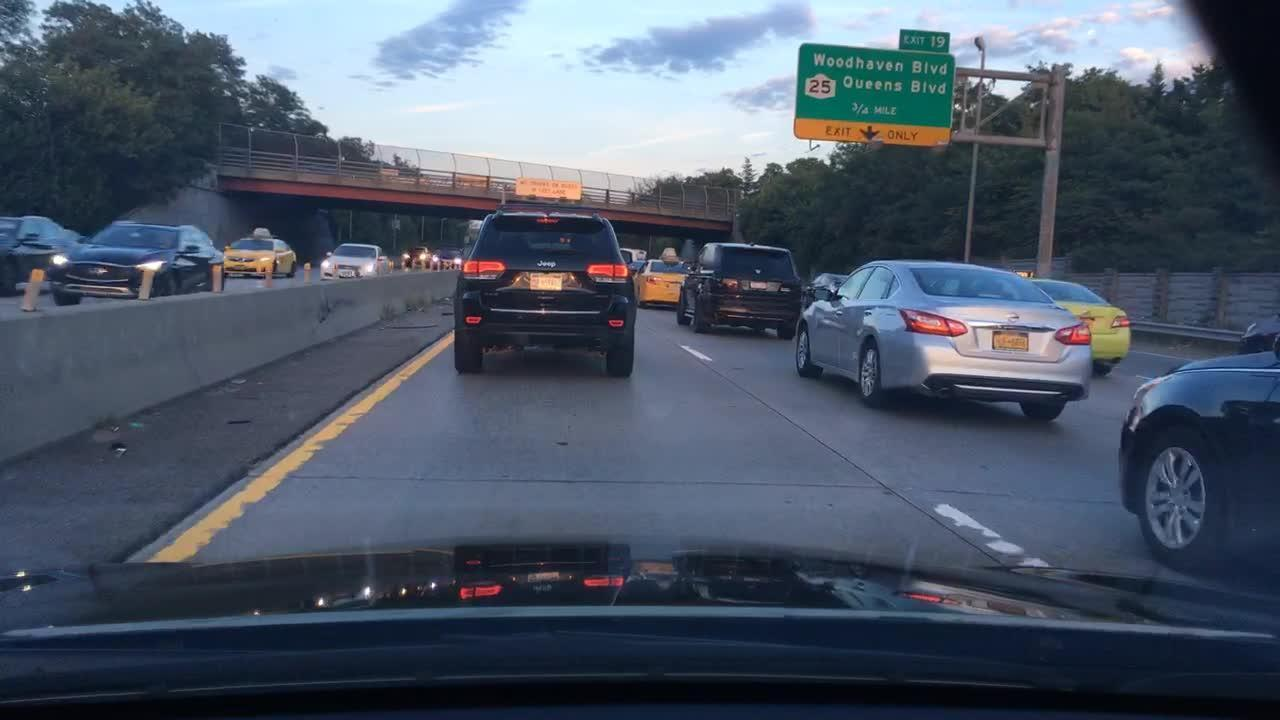Nissan: (999, 306, 1029, 328)
jeep: (534, 252, 564, 272)
